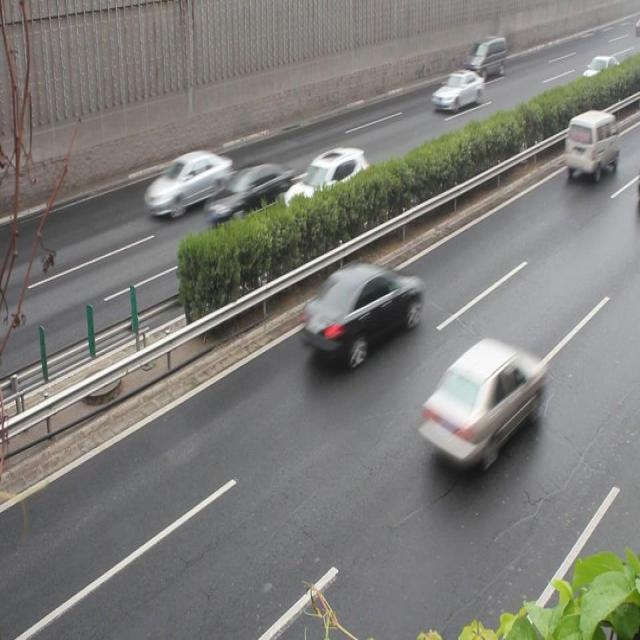car: (414, 336, 543, 470), (298, 257, 420, 362), (282, 146, 369, 220), (143, 148, 229, 217), (203, 159, 293, 223), (428, 68, 481, 110)
